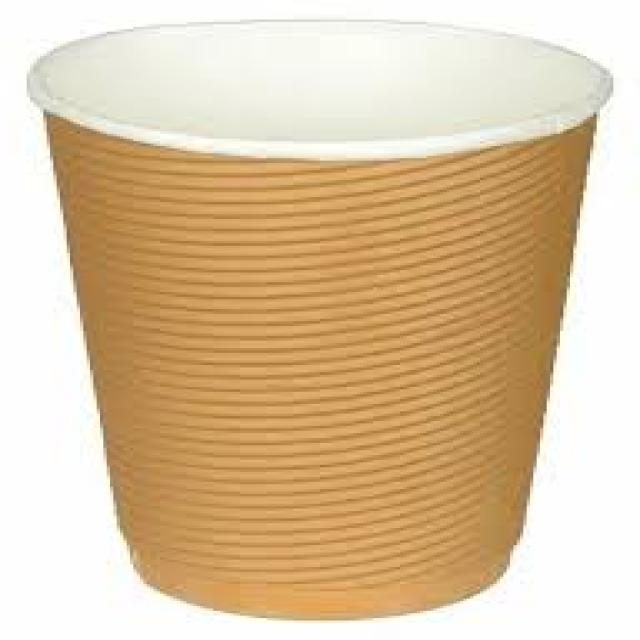PaperCardboard: (29, 11, 621, 617)
